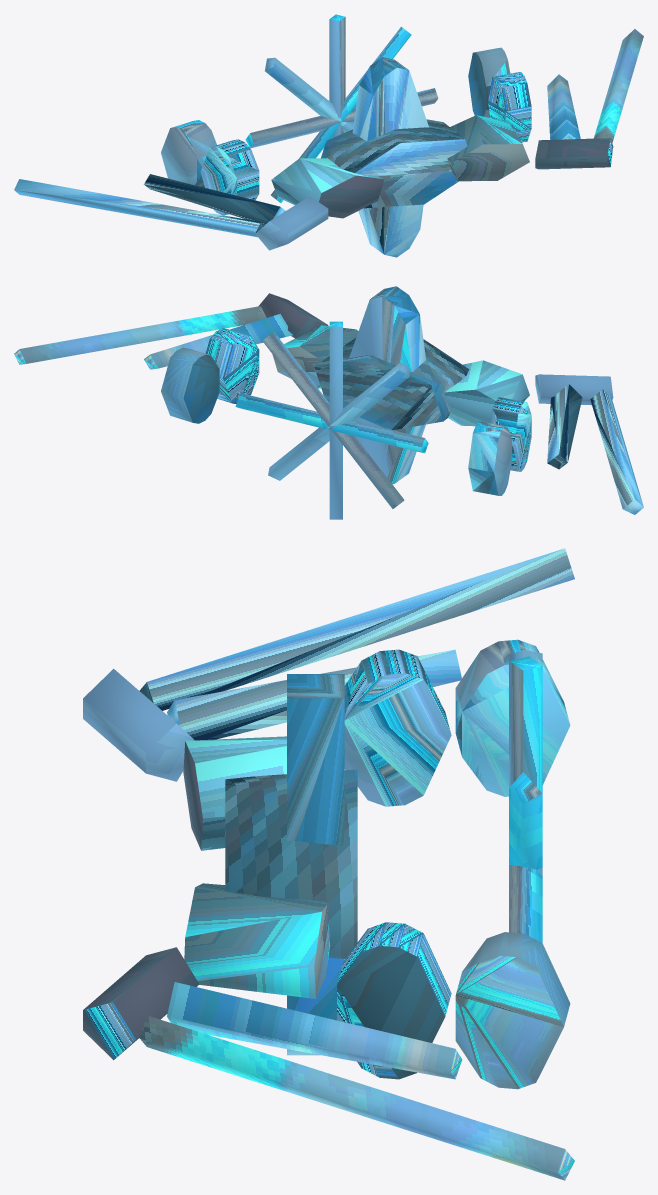
File: sacropolis_3db.gltf
3 renders of one model, top to bottom at view 1: azimuth 30°, elevation 25°; view 2: azimuth 150°, elevation 25°; view 3: azimuth 270°, elevation 25°, orthographic. The views are drawn at different scales.
Parts seen in each view (by area): view 1: sacropolis.3db; view 2: sacropolis.3db; view 3: sacropolis.3db.
Boxes of the visible parts, box(x1,y1,x2,y2) form: sacropolis.3db: box(14, 14, 643, 257); sacropolis.3db: box(14, 286, 643, 519); sacropolis.3db: box(83, 548, 574, 1180).
Size of the model in its own units: 52.68 by 15.63 by 17.82.
Materials: 1 (1 with a texture image).
